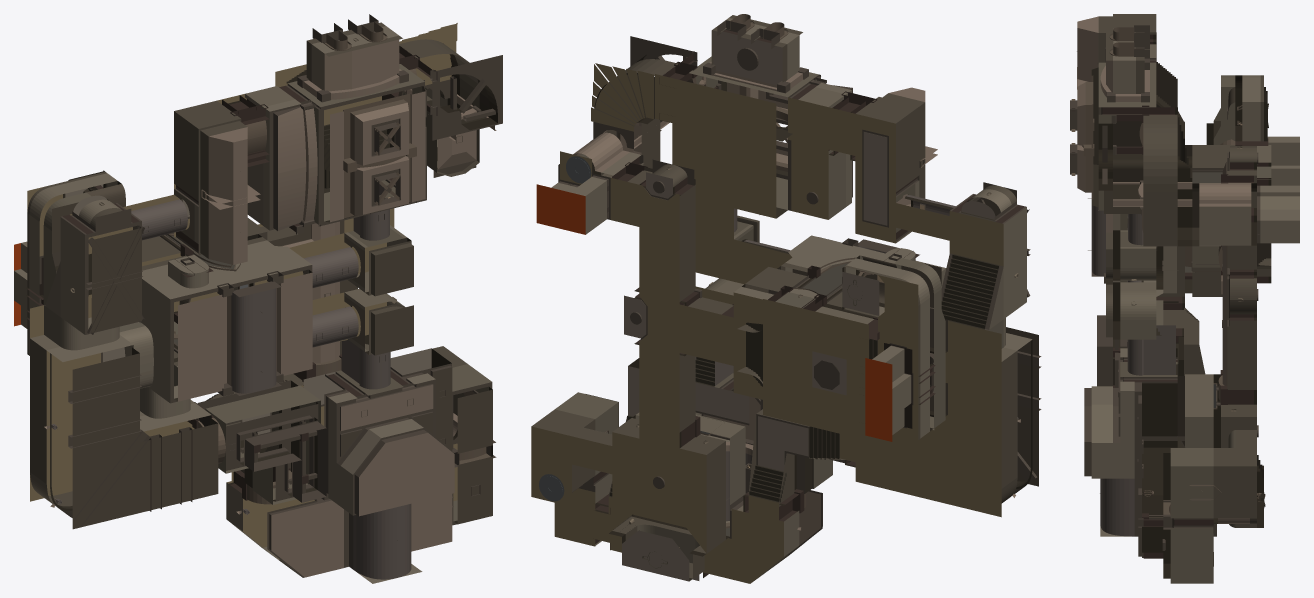
Rendered from bloodrun.obj.
3 renders of one model, left to right at view 1: azimuth 30°, elevation 25°; view 2: azimuth 150°, elevation 25°; view 3: azimuth 270°, elevation 25°, orthographic. The views are drawn at different scales.
Parts seen in each view (by area): view 1: obj2612, obj5140, obj1310, obj2641, obj5134, obj4667, obj2832, obj4666, obj7385, obj2966, obj2685, obj5139 (+52 smaller); view 2: obj1310, obj1315, obj1300, obj1306, obj1316, obj1313, obj1314, obj1305, obj1301, obj2669, obj2674, obj2612 (+30 smaller); view 3: obj3057, obj3005, obj3212, obj3521, obj2982, obj3456, obj4131, obj3492, obj4301, obj3060, obj3539, obj4151 (+57 smaller).
Part boxes in pixels (x1=…): obj2612: x1=72, y1=353, x2=218, y2=529; obj5140: x1=359, y1=433, x2=454, y2=516; obj1310: x1=30, y1=294, x2=194, y2=501; obj2641: x1=91, y1=228, x2=141, y2=332; obj5134: x1=271, y1=500, x2=343, y2=577; obj4667: x1=178, y1=294, x2=223, y2=401; obj2832: x1=142, y1=240, x2=311, y2=299; obj4666: x1=281, y1=272, x2=312, y2=375; obj7385: x1=432, y1=55, x2=502, y2=140; obj2966: x1=60, y1=217, x2=84, y2=334; obj2685: x1=140, y1=279, x2=170, y2=402; obj5139: x1=341, y1=384, x2=433, y2=430; obj1310: x1=840, y1=321, x2=1001, y2=517; obj1315: x1=610, y1=178, x2=762, y2=448; obj1300: x1=655, y1=74, x2=776, y2=218; obj1306: x1=788, y1=97, x2=1003, y2=266; obj1316: x1=531, y1=426, x2=706, y2=553; obj1313: x1=763, y1=299, x2=868, y2=440; obj1314: x1=554, y1=488, x2=783, y2=583; obj1305: x1=695, y1=199, x2=792, y2=304; obj1301: x1=878, y1=275, x2=918, y2=439; obj2669: x1=713, y1=30, x2=782, y2=85; obj2674: x1=622, y1=530, x2=689, y2=581; obj2612: x1=1006, y1=327, x2=1038, y2=486; obj3057: x1=1170, y1=528, x2=1213, y2=583; obj3005: x1=1091, y1=391, x2=1134, y2=478; obj3212: x1=1170, y1=466, x2=1213, y2=518; obj3521: x1=1213, y1=466, x2=1256, y2=518; obj2982: x1=1199, y1=206, x2=1251, y2=245; obj3456: x1=1227, y1=318, x2=1256, y2=389; obj4131: x1=1142, y1=348, x2=1177, y2=436; obj3492: x1=1143, y1=192, x2=1177, y2=245; obj4301: x1=1143, y1=335, x2=1175, y2=374; obj3060: x1=1185, y1=374, x2=1213, y2=416; obj3539: x1=1213, y1=430, x2=1256, y2=466; obj4151: x1=1142, y1=447, x2=1177, y2=495.
Bounding box in the file's own units: 2286 × 2637 × 1134.
